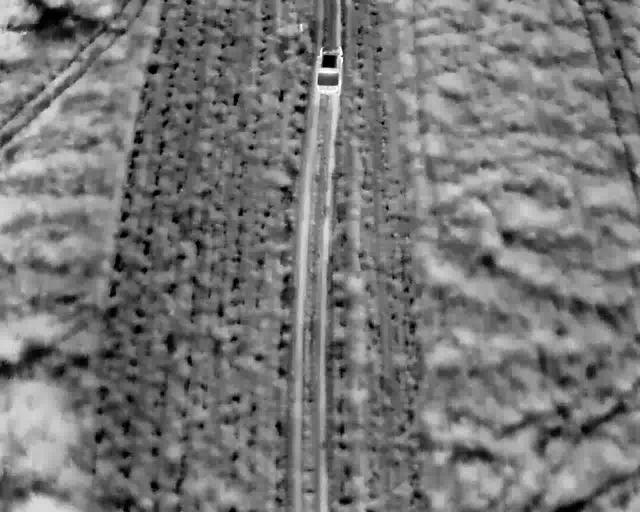car: (316, 46, 343, 93)
